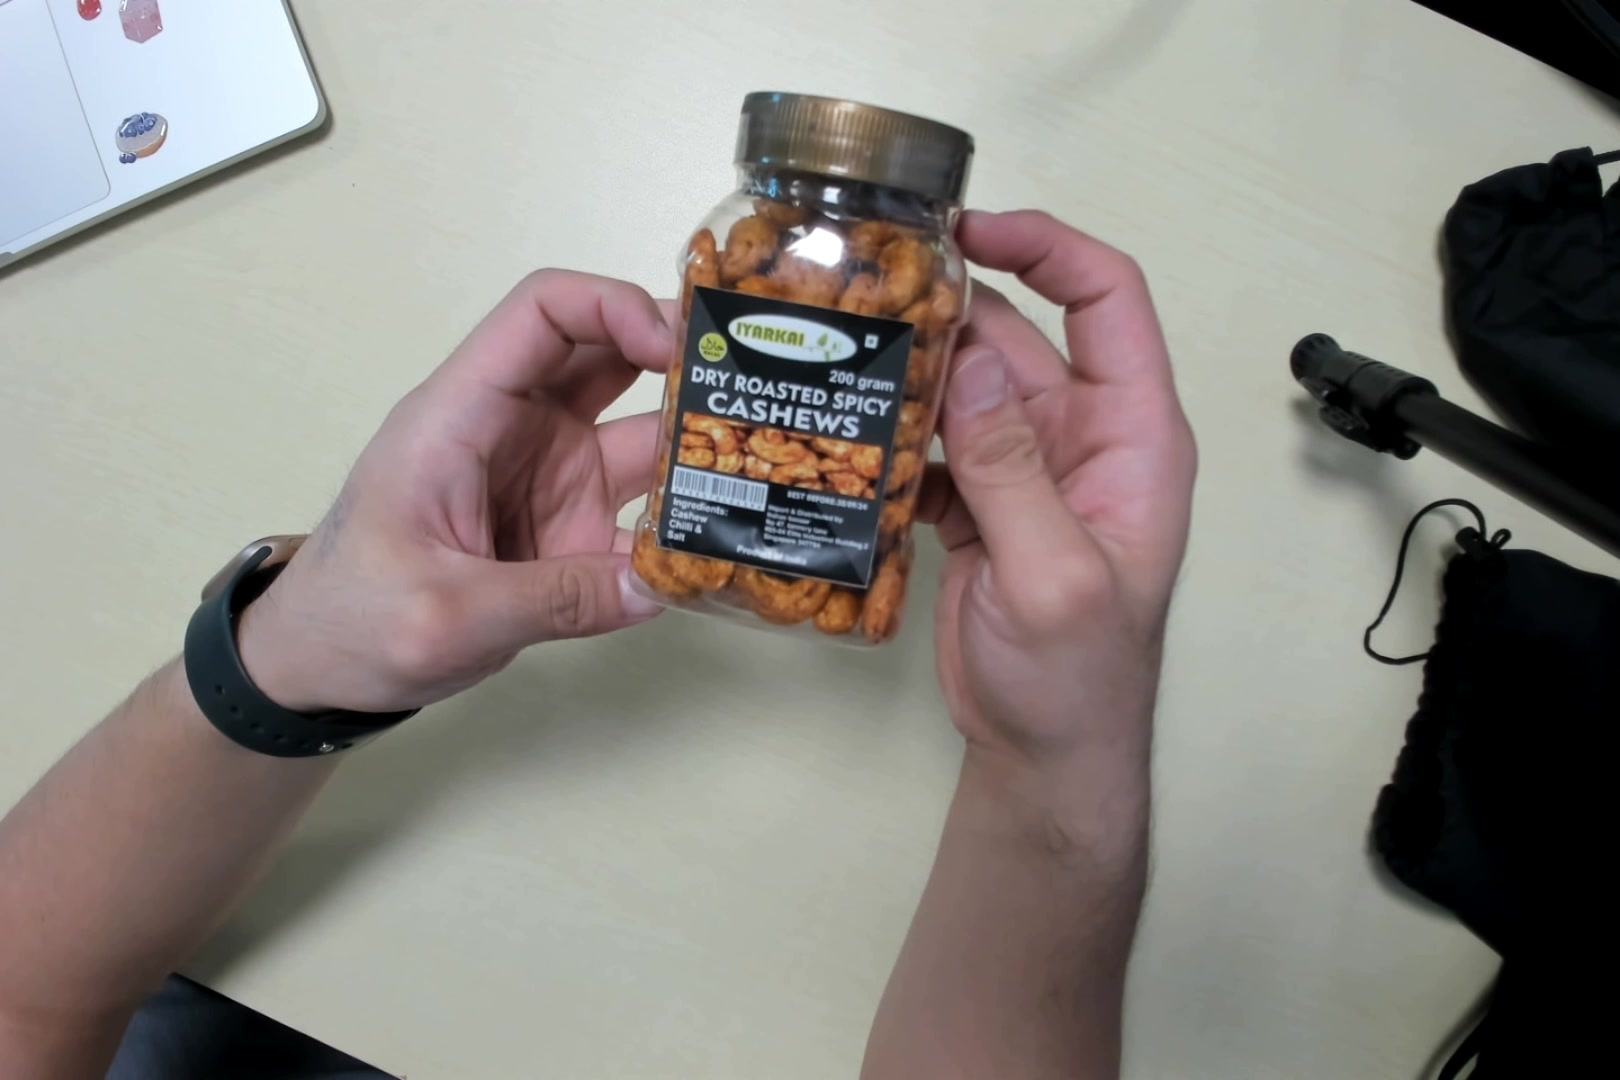Nuts_200-299g_NonHalal_NonHealthy: (650, 80, 969, 646)
